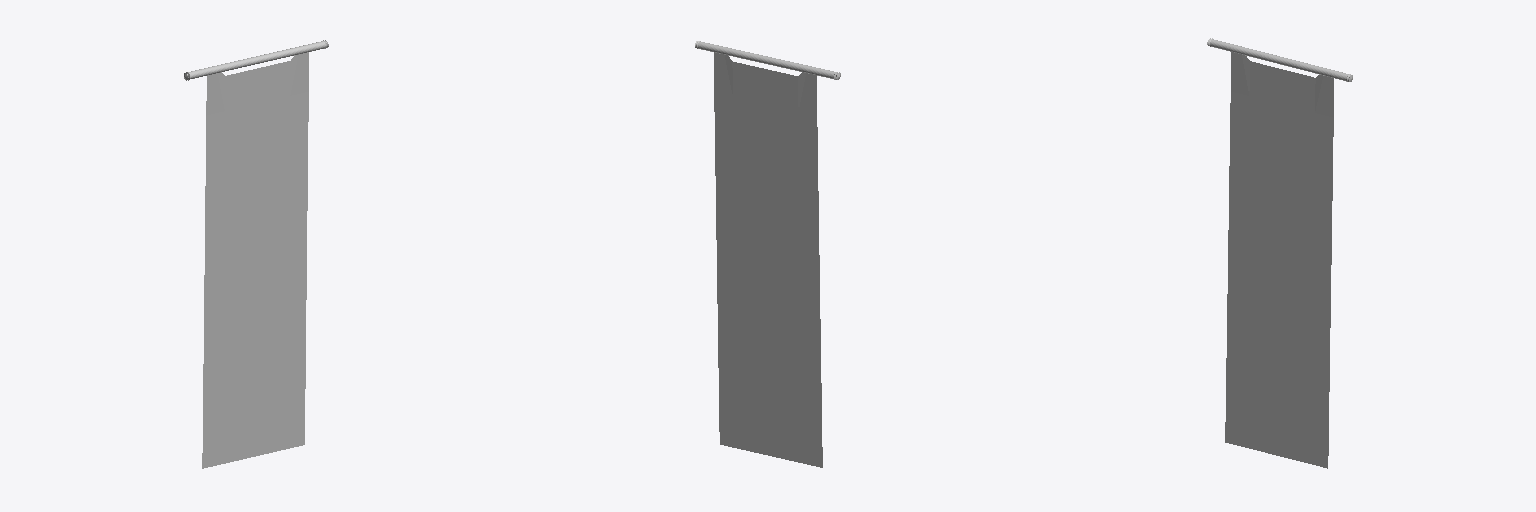
Rendered from Banniere.obj.
3 renders of one model, left to right at view 1: azimuth 30°, elevation 25°; view 2: azimuth 150°, elevation 25°; view 3: azimuth 330°, elevation 25°, orthographic.
Parts seen in each view (by area): view 1: Cylinder; view 2: Cylinder; view 3: Cylinder.
Part boxes in pixels (bbox=[...]): Cylinder: bbox=[184, 40, 328, 468]; Cylinder: bbox=[695, 41, 840, 467]; Cylinder: bbox=[1207, 38, 1352, 468].
Bounding box in the file's own units: 0.7499 × 2.01 × 0.0453.